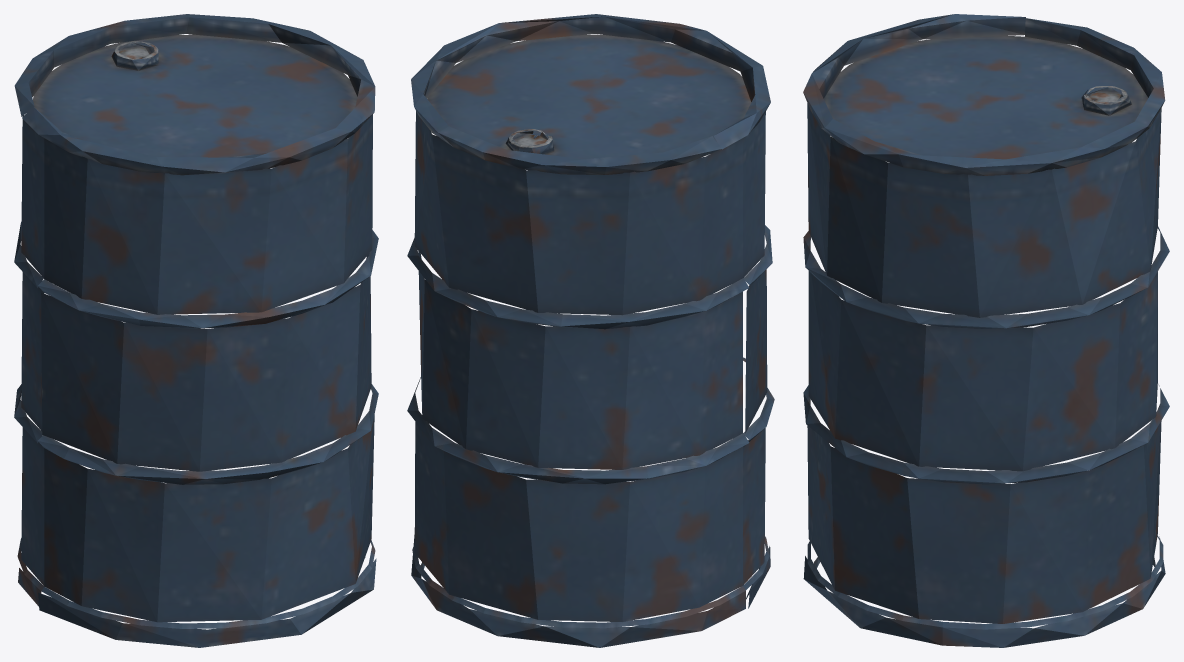
File: prop_barrel.glb
3 renders of one model, left to right at view 1: azimuth 30°, elevation 25°; view 2: azimuth 150°, elevation 25°; view 3: azimuth 270°, elevation 25°, orthographic.
Parts seen in each view (by area): view 1: hull; view 2: hull; view 3: hull.
Boxes of the visible parts, x1=… form: hull: x1=14, y1=14, x2=378, y2=647; hull: x1=407, y1=14, x2=774, y2=647; hull: x1=803, y1=14, x2=1169, y2=647.
Size of the model in its own units: 2 by 2.92 by 2.
Materials: 1 (1 with a texture image).
